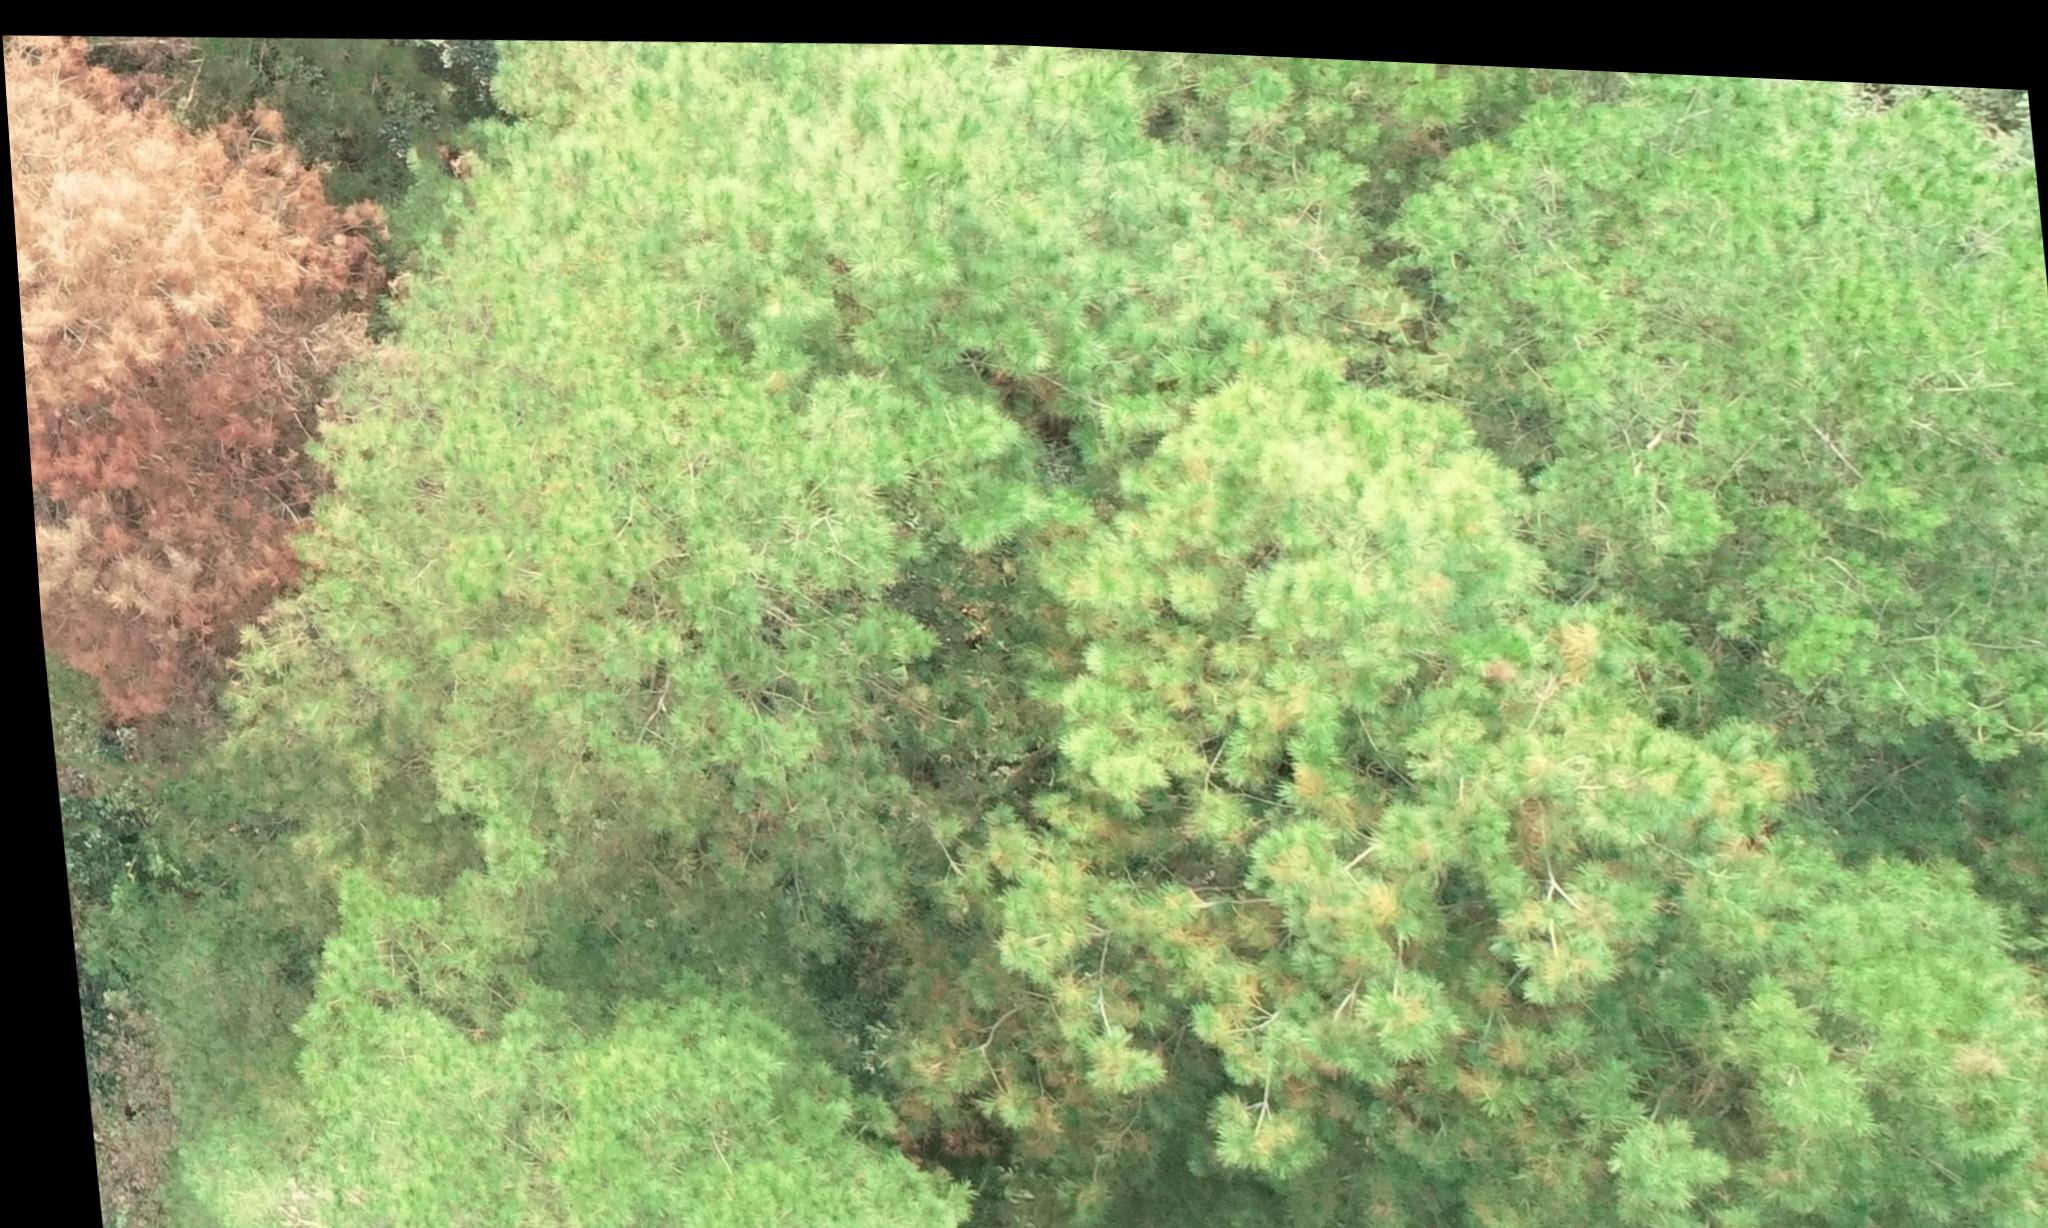heavy: (3, 35, 440, 722)
light: (950, 558, 1693, 1161)
